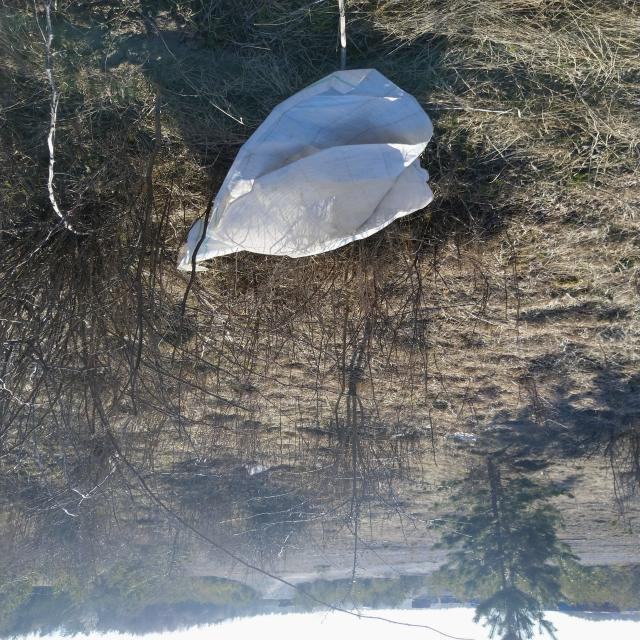Other plastic bottle: (246, 464, 269, 475)
Polypropylene bag: (177, 69, 434, 272)
